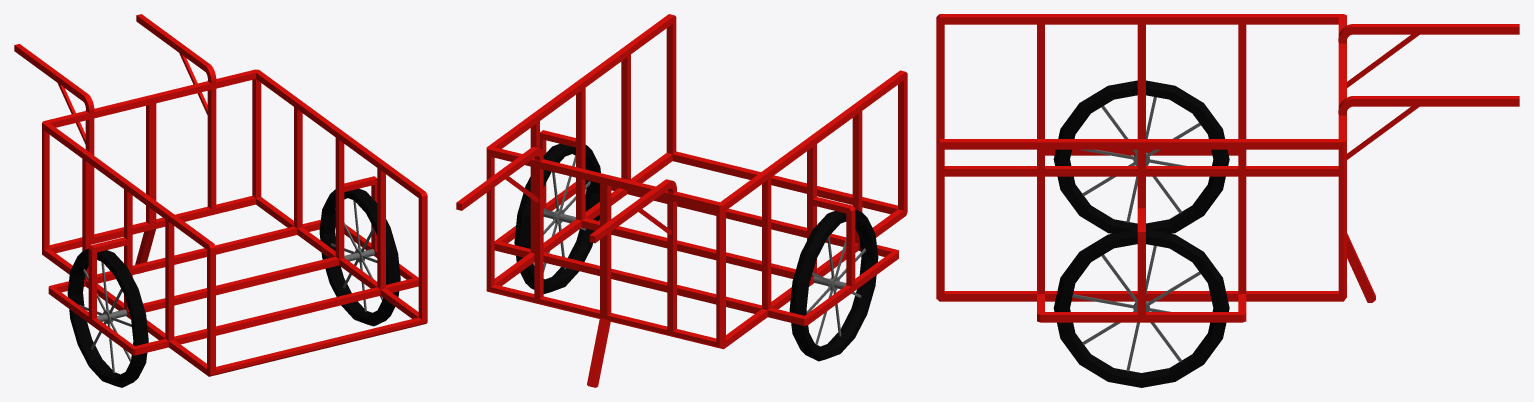
Rendered from Carrito03.fbx.
The picture shows the model from 3 angles, left to right: view 1: azimuth 30°, elevation 25°; view 2: azimuth 150°, elevation 25°; view 3: azimuth 270°, elevation 25°; orthographic projection. The views are drawn at different scales.
Parts seen in each view (by area): view 1: Carrito.001; view 2: Carrito.001; view 3: Carrito.001.
Boxes of the visible parts, box(x1,y1,x2,y2) form: Carrito.001: box(14, 14, 427, 387); Carrito.001: box(456, 14, 907, 387); Carrito.001: box(936, 14, 1519, 387).
Bounding box in the file's own units: 120 × 82.95 × 174.
